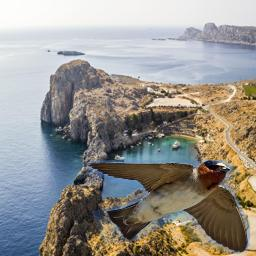Swallow: (86, 160, 250, 254)
